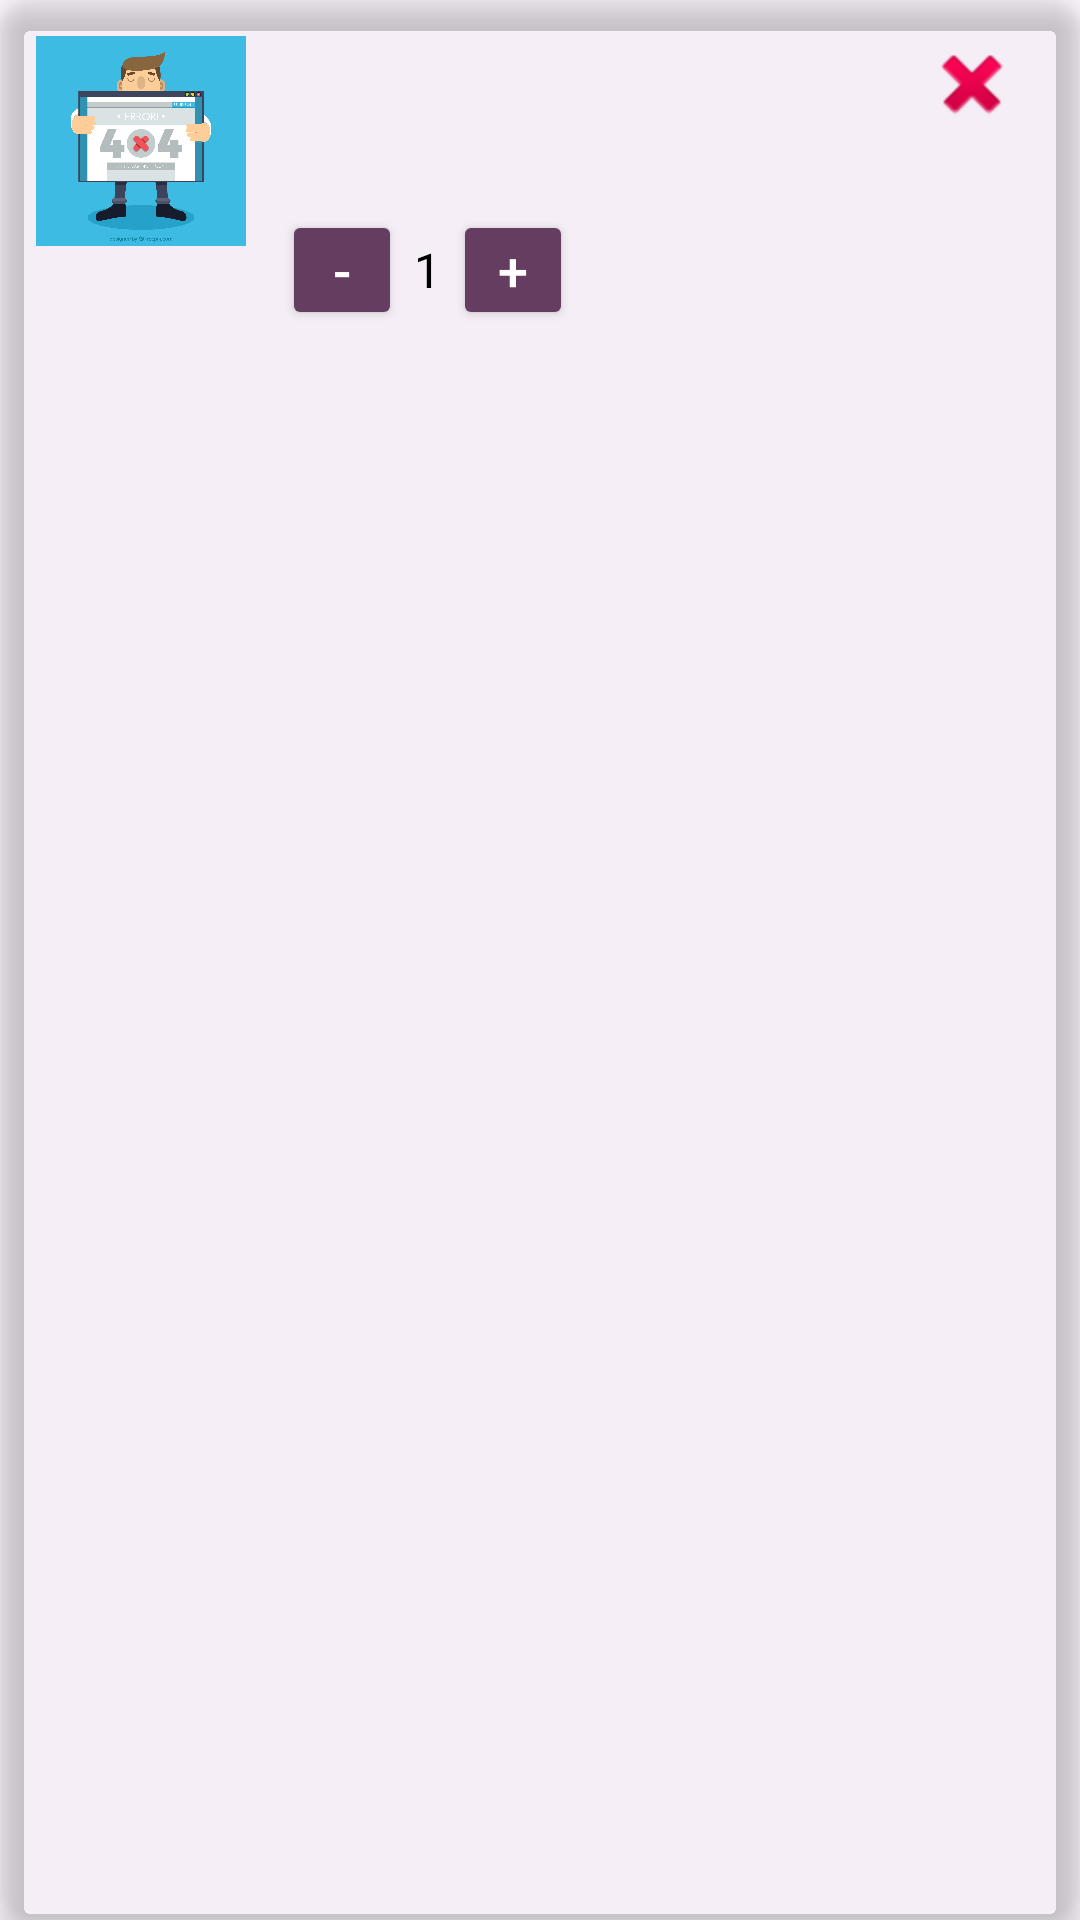

Where to tap for icons on this 1080 x 1920 app screen, as (x=x, y=y):
Delete item: (x=972, y=84)
